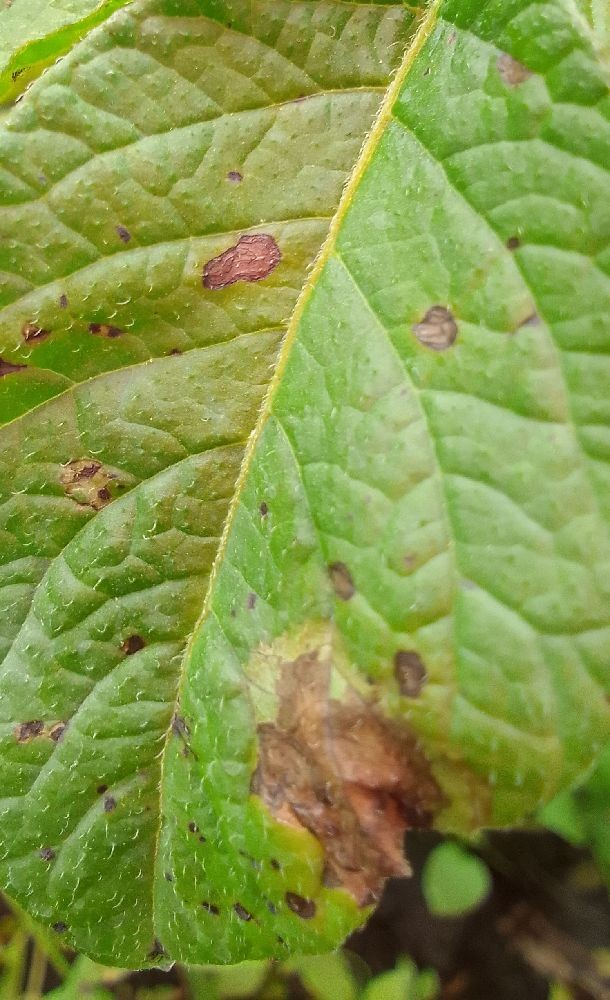late_blight: (237, 608, 568, 999), (172, 208, 338, 323), (151, 0, 327, 86), (0, 880, 92, 1000)
